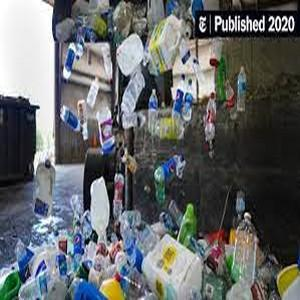Plastic: (232, 210, 260, 286), (18, 270, 60, 300), (144, 90, 160, 133), (112, 171, 125, 222), (237, 64, 248, 114), (86, 73, 101, 109)
